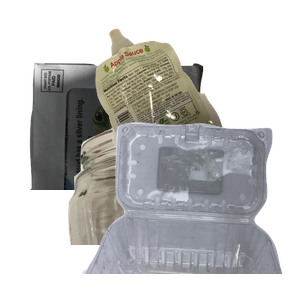glass: (61, 120, 287, 300)
paper: (27, 60, 223, 240)
plastic: (80, 120, 300, 300)
trash: (93, 26, 300, 200)
